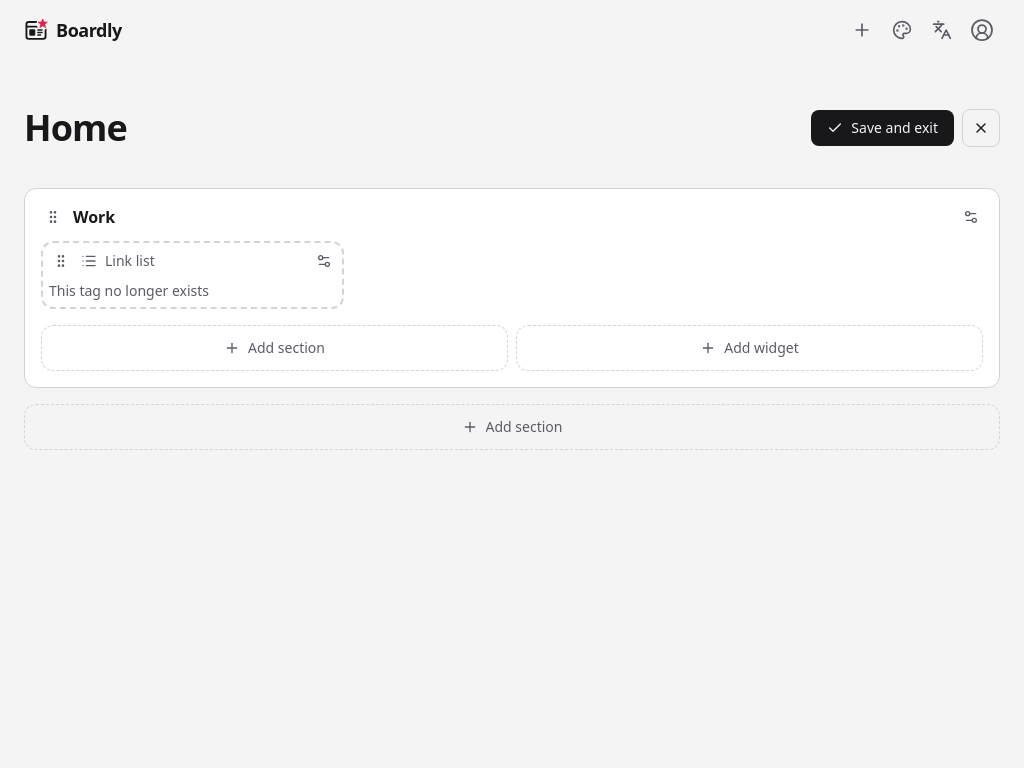
it: the link list's tag and sort › shows a deleted tag and falls back to no tag filter
Expected: the button "Save and exit" is shown, [811,110,954,146]
Expected: the text "This tag no longer exists" is shown, [49,281,209,300]
Step 1. Click the button named "Edit Link list" → (324, 261), box [312,249,336,273]
(page scrolled)
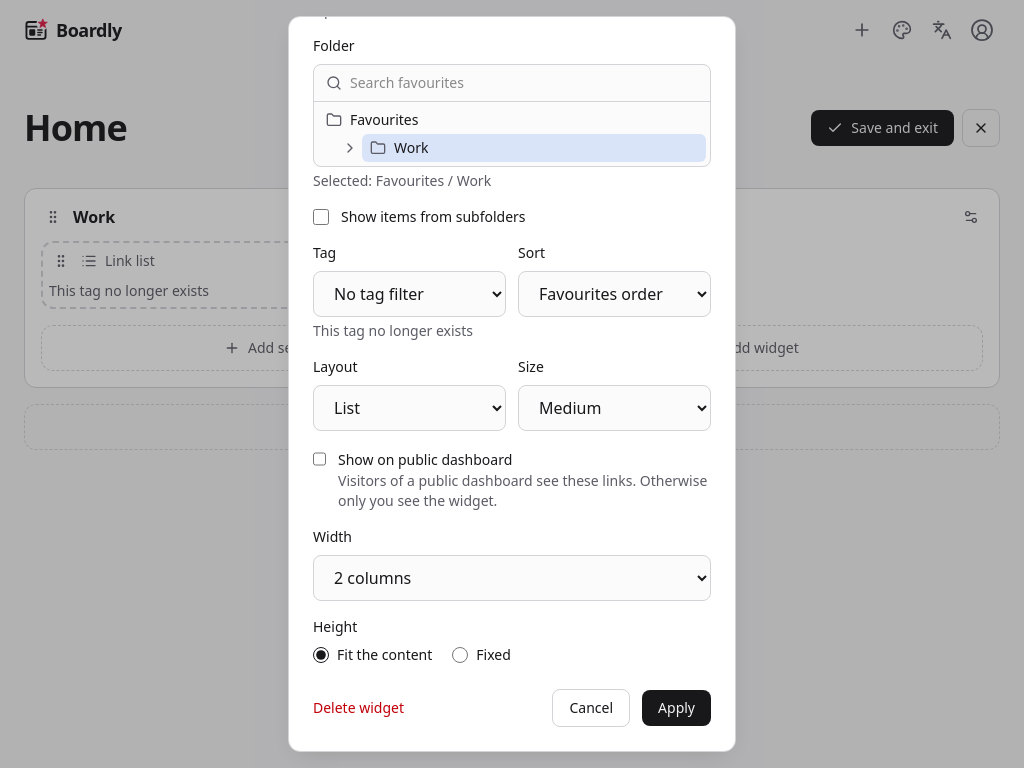
Expected: the text "This tag no longer exists" is shown, [313,321,473,340]
Expected: the dropdown labelled "Tag" shows "No tag filter", [313,271,506,317]
Step 2. Click the button "Apply" → (677, 708), box [642,690,711,726]
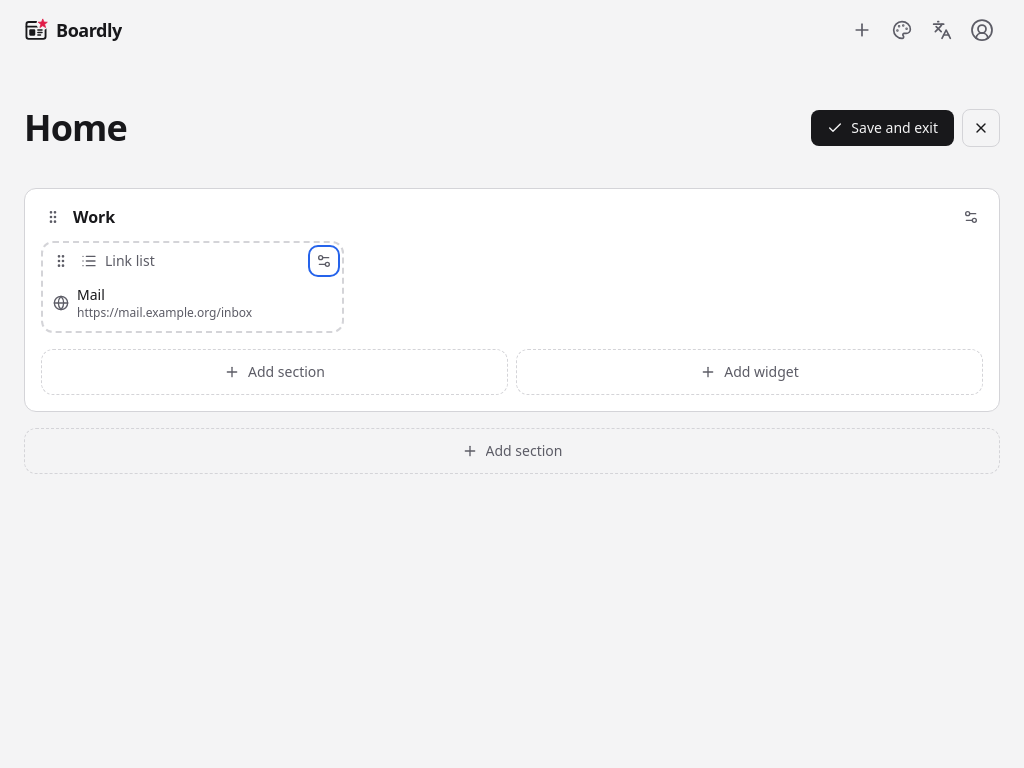
Expected: the link "Mail https://mail.example.org/inbox" is shown, [53,285,252,321]
